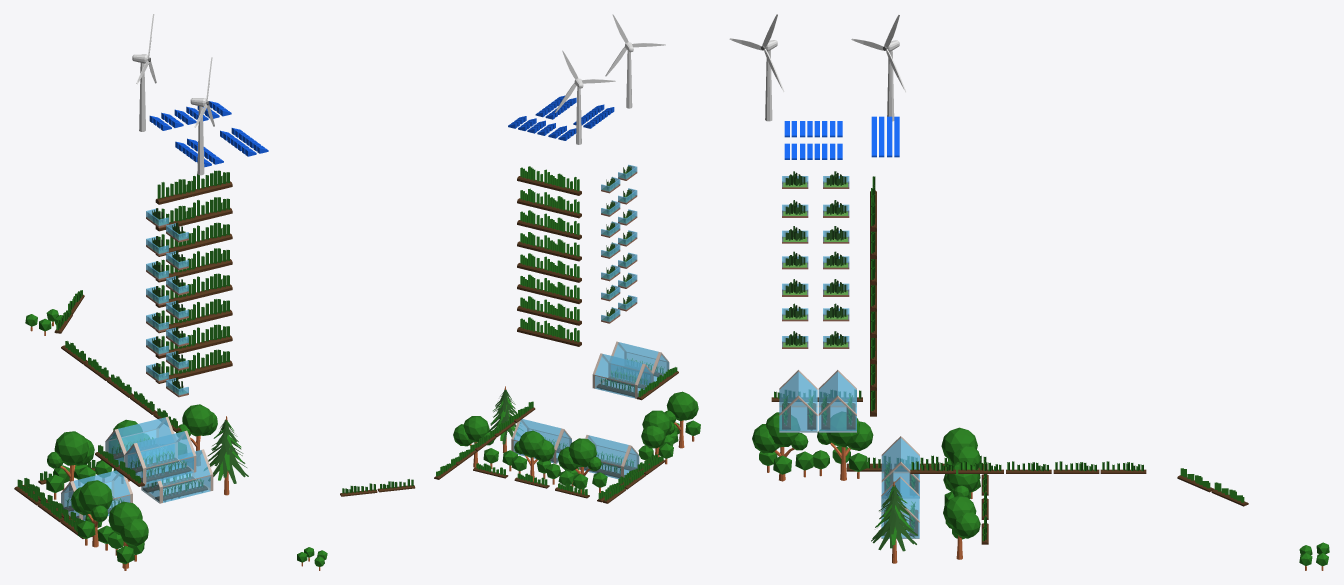
The model's file is solution_22_green_building.fbx.
3 renders of one model, left to right at view 1: azimuth 30°, elevation 25°; view 2: azimuth 150°, elevation 25°; view 3: azimuth 270°, elevation 25°, orthographic. The views are drawn at different scales.
Visible parts, largest first — view 1: solution_22_green_building; view 2: solution_22_green_building; view 3: solution_22_green_building.
Part boxes in pixels (<box>): solution_22_green_building: <box>14,14,268,570</box>; solution_22_green_building: <box>297,14,700,570</box>; solution_22_green_building: <box>729,14,1329,570</box>.
Size of the model in its own units: 3961 by 8825 by 9370.
